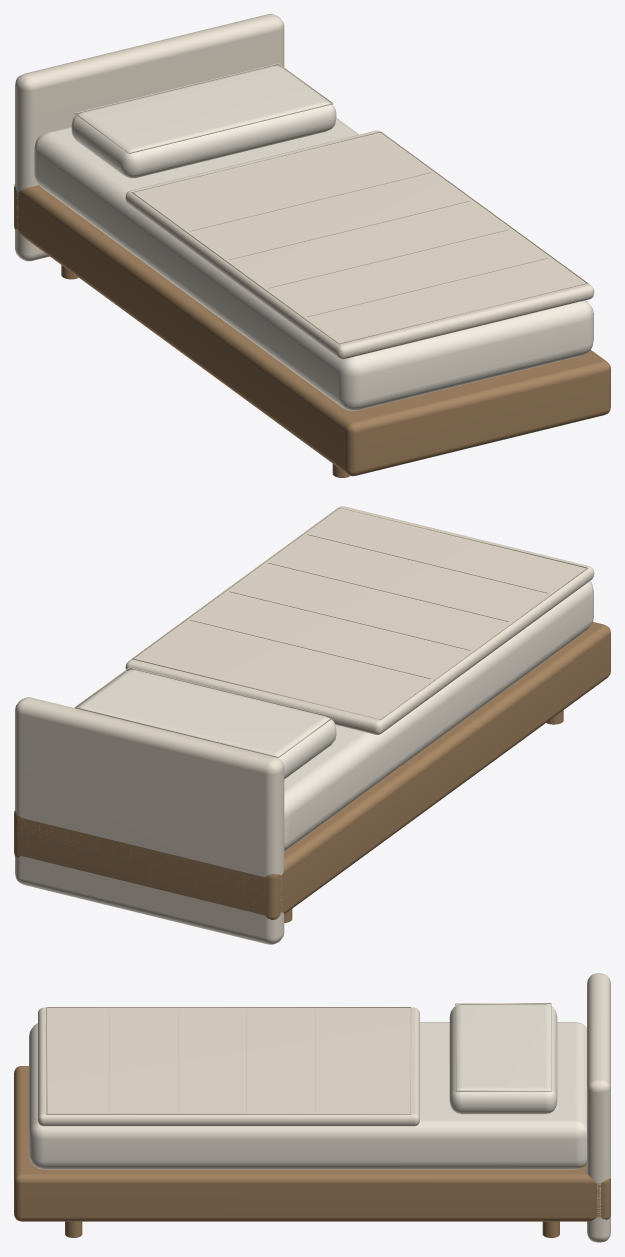
3 renders of one model, top to bottom at view 1: azimuth 30°, elevation 25°; view 2: azimuth 150°, elevation 25°; view 3: azimuth 270°, elevation 25°, orthographic. The views are drawn at different scales.
Parts seen in each view (by area): view 1: quilt, frame, mattress, pillow_0, headboard, seam_quilt, seam_pillow_0; view 2: quilt, headboard, frame, mattress, pillow_0, seam_quilt, seam_pillow_0; view 3: quilt, mattress, frame, pillow_0, headboard, seam_quilt, seam_pillow_0.
Boxes of the visible parts, x1=… form: quilt: x1=125, y1=130, x2=594, y2=359; frame: x1=14, y1=184, x2=610, y2=476; mattress: x1=34, y1=118, x2=593, y2=410; pillow_0: x1=71, y1=65, x2=336, y2=178; headboard: x1=15, y1=14, x2=284, y2=261; seam_quilt: x1=131, y1=131, x2=588, y2=344; seam_pillow_0: x1=74, y1=63, x2=333, y2=153; quilt: x1=125, y1=506, x2=594, y2=734; headboard: x1=15, y1=697, x2=284, y2=944; frame: x1=14, y1=622, x2=610, y2=919; mattress: x1=284, y1=581, x2=593, y2=850; pillow_0: x1=77, y1=669, x2=336, y2=778; seam_quilt: x1=132, y1=507, x2=587, y2=719; seam_pillow_0: x1=74, y1=667, x2=333, y2=757; quilt: x1=38, y1=1007, x2=419, y2=1126; mattress: x1=29, y1=1022, x2=586, y2=1169; frame: x1=14, y1=1066, x2=610, y2=1221; pillow_0: x1=449, y1=1004, x2=557, y2=1114; headboard: x1=587, y1=973, x2=610, y2=1242; seam_quilt: x1=46, y1=1007, x2=411, y2=1114; seam_pillow_0: x1=455, y1=1003, x2=551, y2=1091.
Bounding box in the file's own units: 0.9 × 0.6 × 2.
